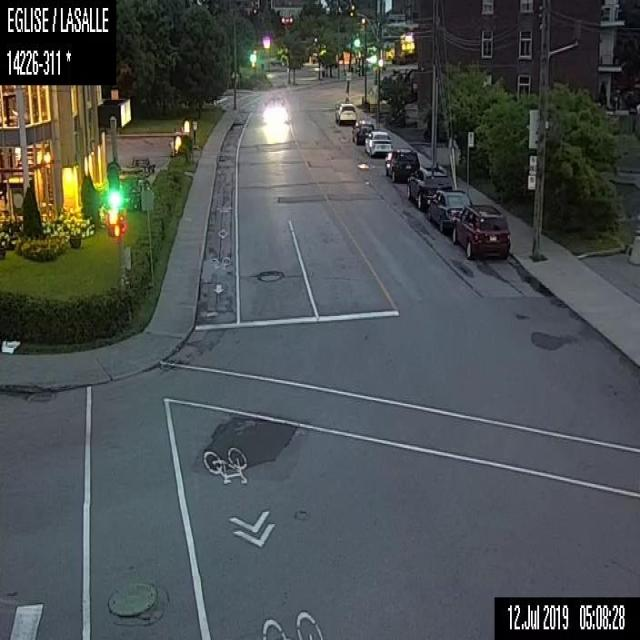vehicle: (450, 202, 510, 260), (424, 186, 474, 234), (405, 163, 450, 209), (384, 146, 421, 183), (363, 128, 393, 158), (261, 94, 289, 122), (350, 118, 374, 145), (333, 100, 355, 124)
